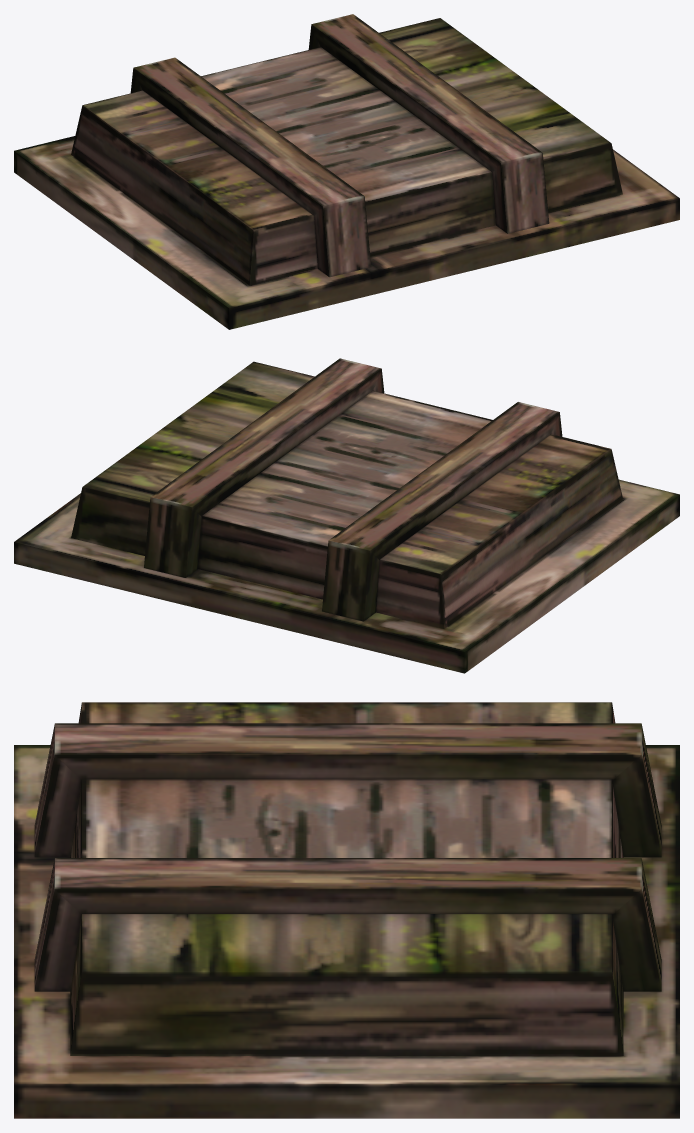
File: GAM_TreasureChestTop.FBX
The picture shows the model from 3 angles, top to bottom: view 1: azimuth 30°, elevation 25°; view 2: azimuth 150°, elevation 25°; view 3: azimuth 270°, elevation 25°; orthographic projection. The views are drawn at different scales.
Parts seen in each view (by area): view 1: GAM_TreasureChestTop; view 2: GAM_TreasureChestTop; view 3: GAM_TreasureChestTop.
Boxes of the visible parts, left/top/right/bottom form: GAM_TreasureChestTop: left=14, top=14, right=679, bottom=329; GAM_TreasureChestTop: left=14, top=358, right=679, bottom=673; GAM_TreasureChestTop: left=14, top=702, right=679, bottom=1118.
Size of the model in its own units: 68.23 by 12.68 by 56.42.
1 material, 1 textured.
